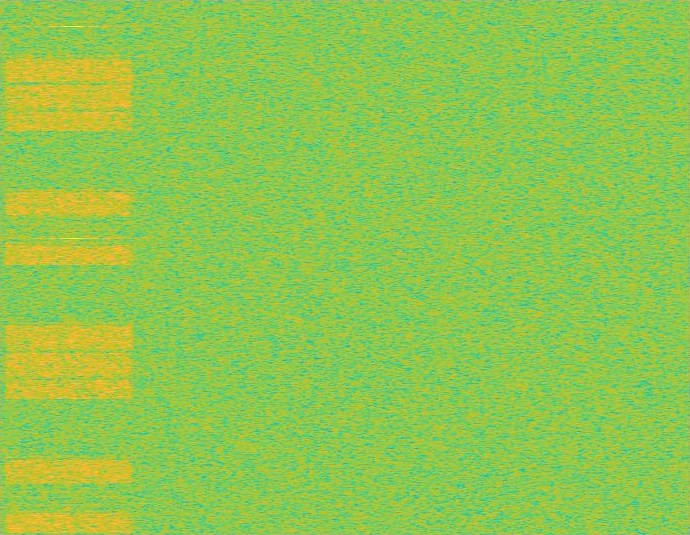LTE: (0, 0, 138, 534)
Radar: (66, 0, 80, 534)
